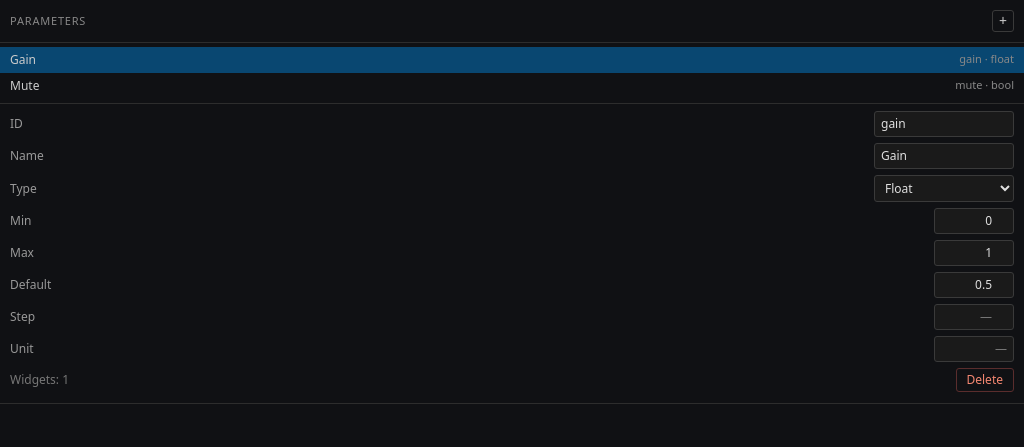
Scenario: ParametersPanel › adds a parameter and selects it
Click the button "+" at (1003, 21), box [992,10,1014,32]
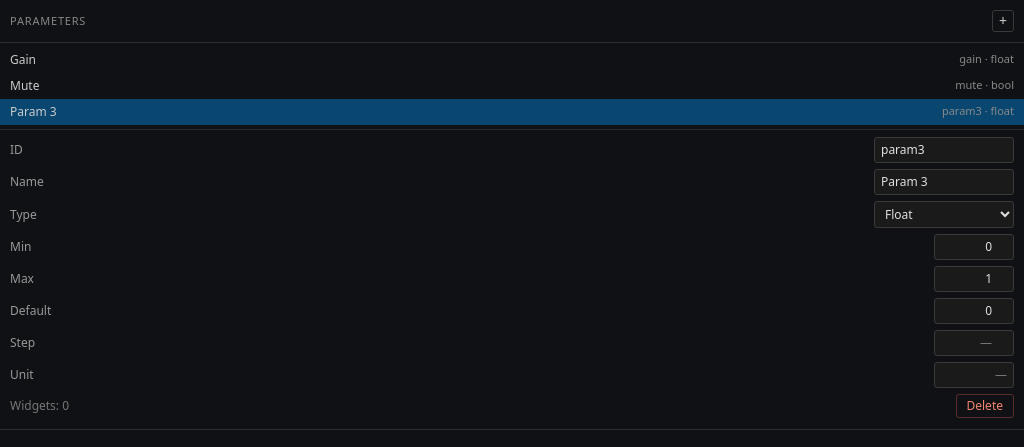
Expected: the list item "Param 3 param3 · float" is shown, [0,99,1023,125]
